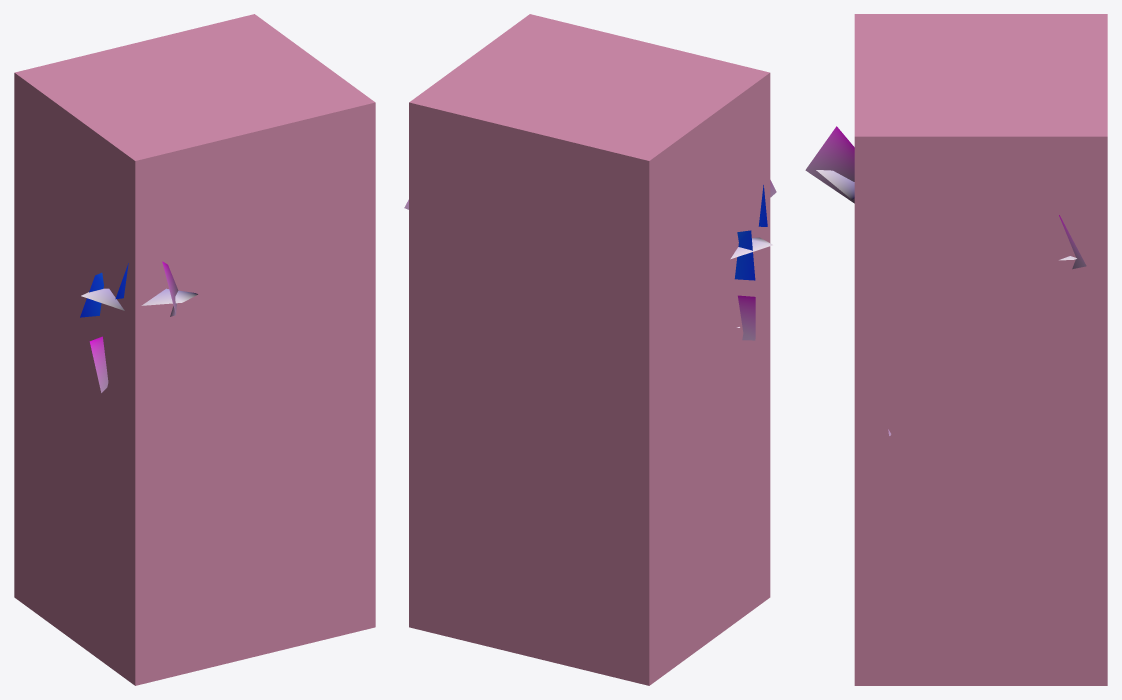
The model's file is tree_aspen_small_d.dae.
3 views of the same model, side by side, from view 1: azimuth 30°, elevation 25°; view 2: azimuth 150°, elevation 25°; view 3: azimuth 270°, elevation 25° (orthographic). The views are drawn at different scales.
Parts seen in each view (by area): view 1: Untitled, tree_oak_bush_a250, tree_oak_bush_a590; view 2: Untitled, tree_oak_bush_a250; view 3: Untitled, tree_oak_bush_a250, tree_oak_bush_a590.
Part boxes in pixels (left/top/right/bottom): Untitled: left=14, top=14, right=375, bottom=685; tree_oak_bush_a250: left=80, top=261, right=178, bottom=392; tree_oak_bush_a590: left=81, top=288, right=197, bottom=310; Untitled: left=409, top=14, right=770, bottom=685; tree_oak_bush_a250: left=404, top=180, right=776, bottom=340; Untitled: left=854, top=14, right=1107, bottom=685; tree_oak_bush_a250: left=805, top=126, right=1086, bottom=435; tree_oak_bush_a590: left=816, top=170, right=1076, bottom=260.
Bounding box in the file's own units: 4.66 × 4.11 × 8.53.
